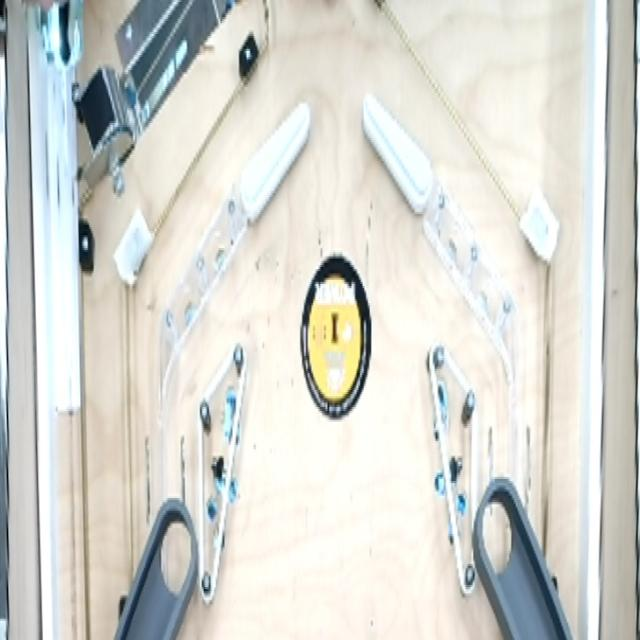flipper-left: (360, 82, 442, 226)
flipper-right: (236, 92, 316, 223)
